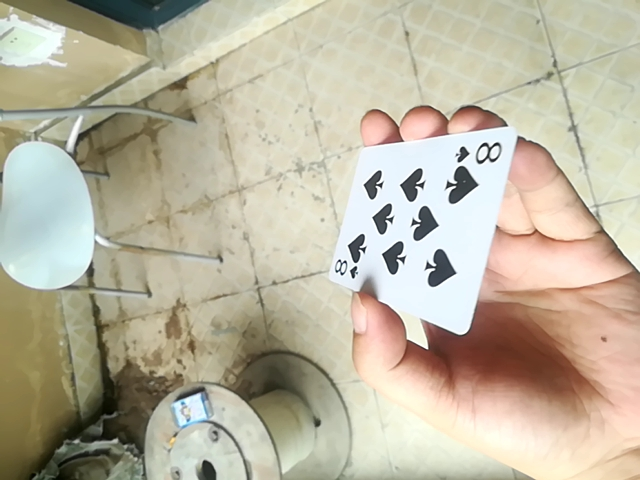ht 8: (330, 123, 510, 335)
